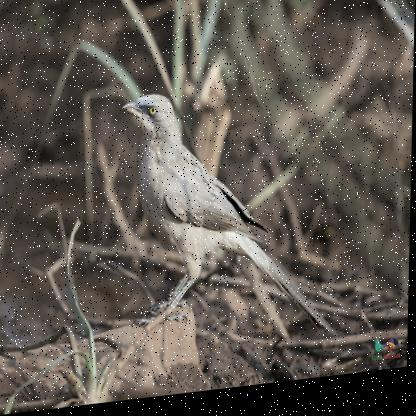Burung: (118, 80, 343, 365)
